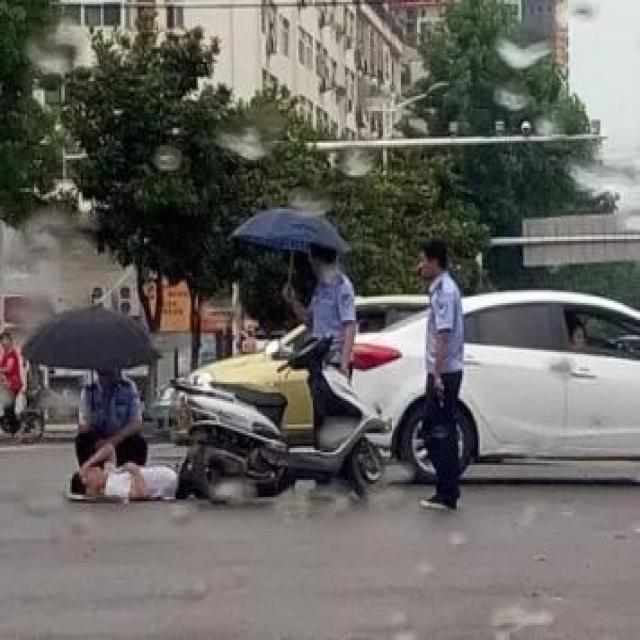fall: (70, 445, 193, 503)
nonfall: (416, 240, 464, 510), (285, 241, 356, 378), (77, 362, 148, 461), (0, 332, 20, 391)
